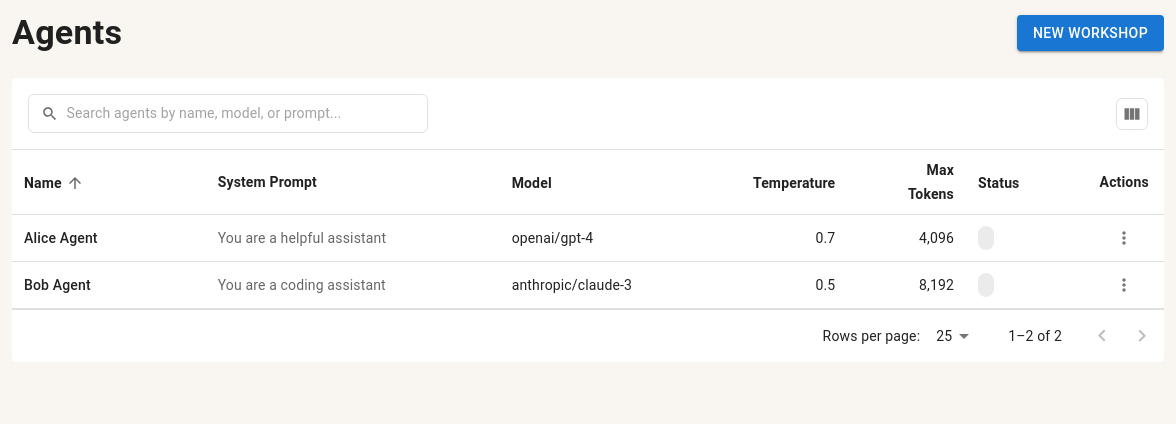
Test case: AgentsPage › shows Open Workshop when session exists
Note: Open first action menu
Click the button named "Actions for" at [1124, 238], box left=1109, top=223, right=1139, bottom=253
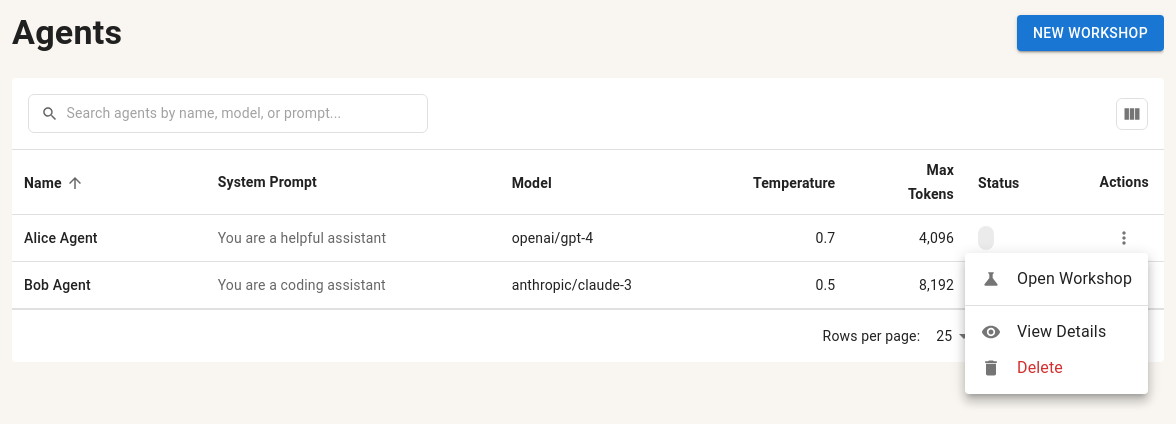
Expected: the text "Open Workshop" is shown, left=1017, top=267, right=1132, bottom=291
